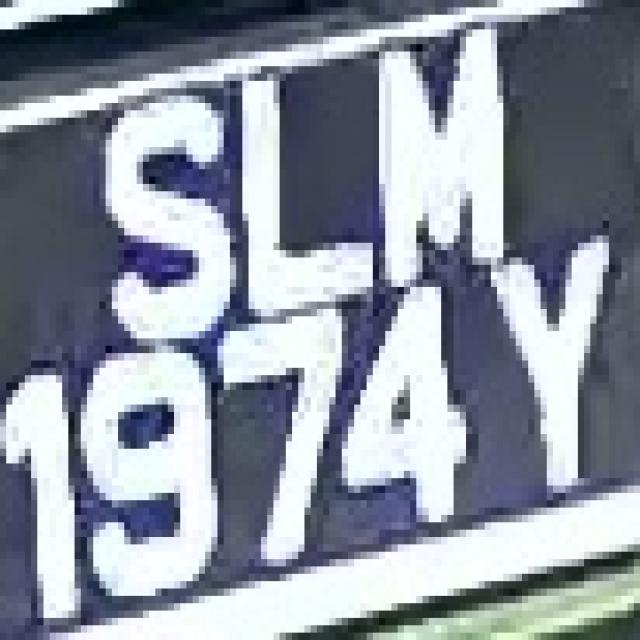1: (0, 4, 1, 8)
4: (336, 294, 497, 530)
7: (224, 316, 354, 611)
9: (81, 331, 230, 625)
L: (230, 44, 391, 302)
M: (354, 15, 522, 265)
S: (93, 88, 230, 360)
Y: (478, 221, 622, 515)
